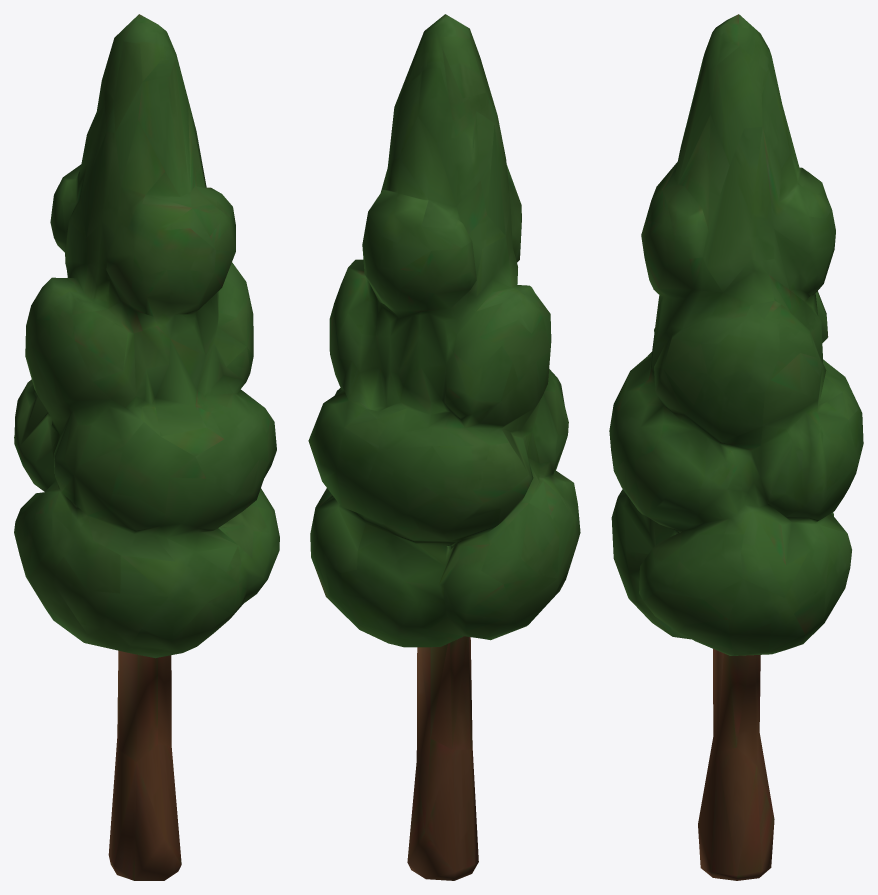
Rendered from pino.glb.
The picture shows the model from 3 angles, left to right: view 1: azimuth 30°, elevation 25°; view 2: azimuth 150°, elevation 25°; view 3: azimuth 270°, elevation 25°; orthographic projection.
Visible parts, largest first — view 1: Mesh_0; view 2: Mesh_0; view 3: Mesh_0.
Boxes of the visible parts, left/top/right/bottom form: Mesh_0: left=14, top=14, right=279, bottom=880; Mesh_0: left=308, top=14, right=580, bottom=880; Mesh_0: left=609, top=14, right=863, bottom=880.
Bounding box in the file's own units: 0.5343 × 1.9 × 0.515.
1 material, 1 textured.
